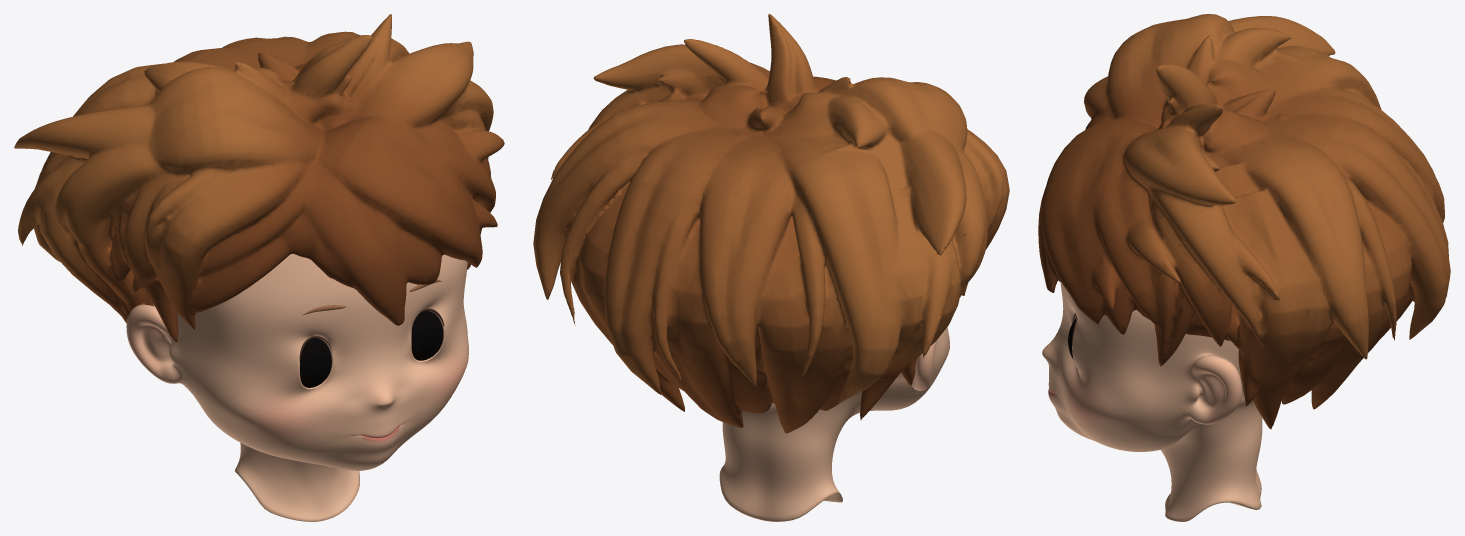
The model's file is head_candidate_v008.glb.
The picture shows the model from 3 angles, left to right: view 1: azimuth 30°, elevation 25°; view 2: azimuth 150°, elevation 25°; view 3: azimuth 270°, elevation 25°; orthographic projection. The views are drawn at different scales.
Visible parts, largest first — view 1: SCULPT_HAIR, SCULPT_HEAD, SCULPT_EYE_L, SCULPT_EYE_R; view 2: SCULPT_HAIR, SCULPT_HEAD; view 3: SCULPT_HAIR, SCULPT_HEAD.
Boxes of the visible parts, x1,y1,x2,y2 form: SCULPT_HAIR: [14, 14, 504, 342]; SCULPT_HEAD: [126, 254, 468, 521]; SCULPT_EYE_L: [411, 310, 443, 360]; SCULPT_EYE_R: [300, 338, 331, 387]; SCULPT_HAIR: [533, 14, 1009, 433]; SCULPT_HEAD: [719, 327, 949, 521]; SCULPT_HAIR: [1038, 14, 1450, 429]; SCULPT_HEAD: [1042, 282, 1262, 521].
Size of the model in its own units: 0.4761 by 0.5076 by 0.4073.
5 materials, 3 textured.
